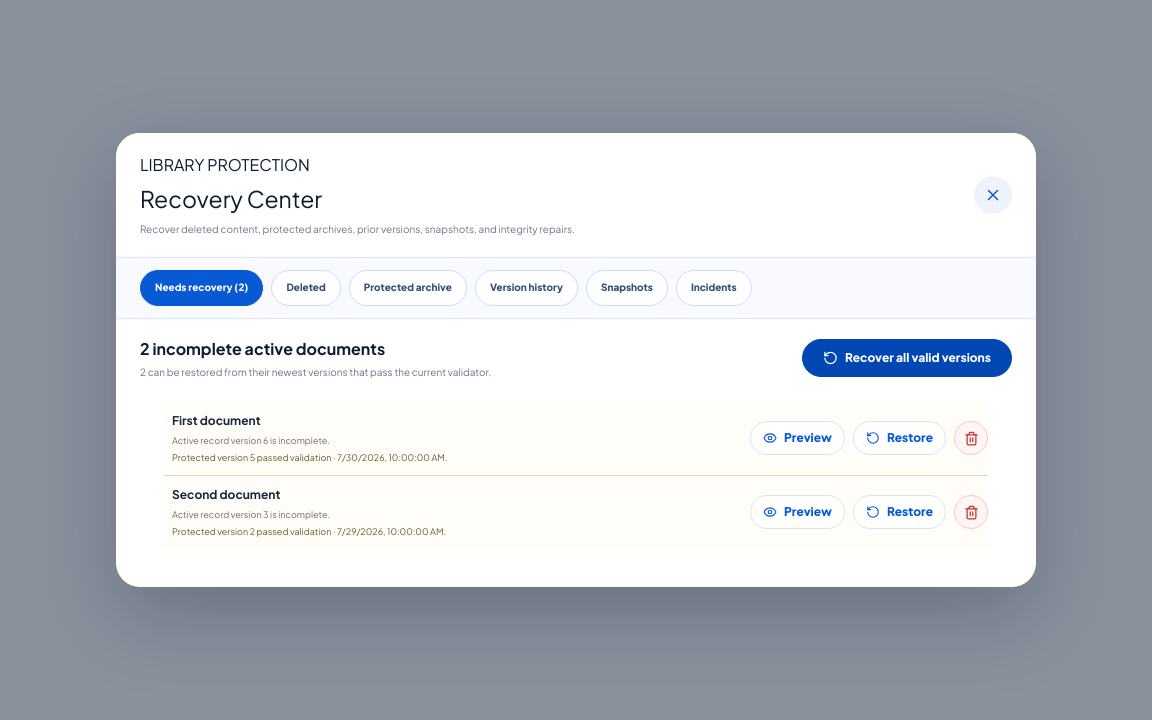
it: incomplete active document recovery › requires confirmation before requesting an all-or-nothing bulk recovery
What coordinates should you click on to do the following:
click the button "Recover all valid versions"
I would click on:
 (907, 358)
Its box is 802,339 -> 1012,377.
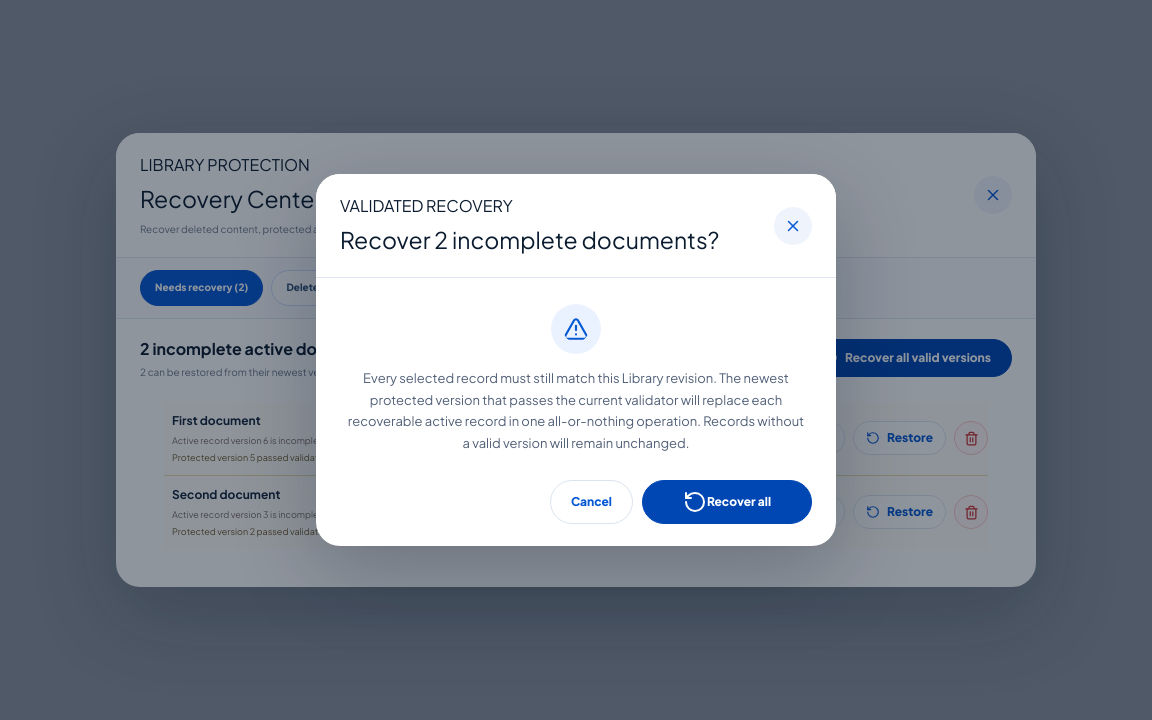
What coordinates should you click on to do the following:
click the button "Recover all"
I would click on:
 (727, 502)
Its box is 642,480 -> 812,524.
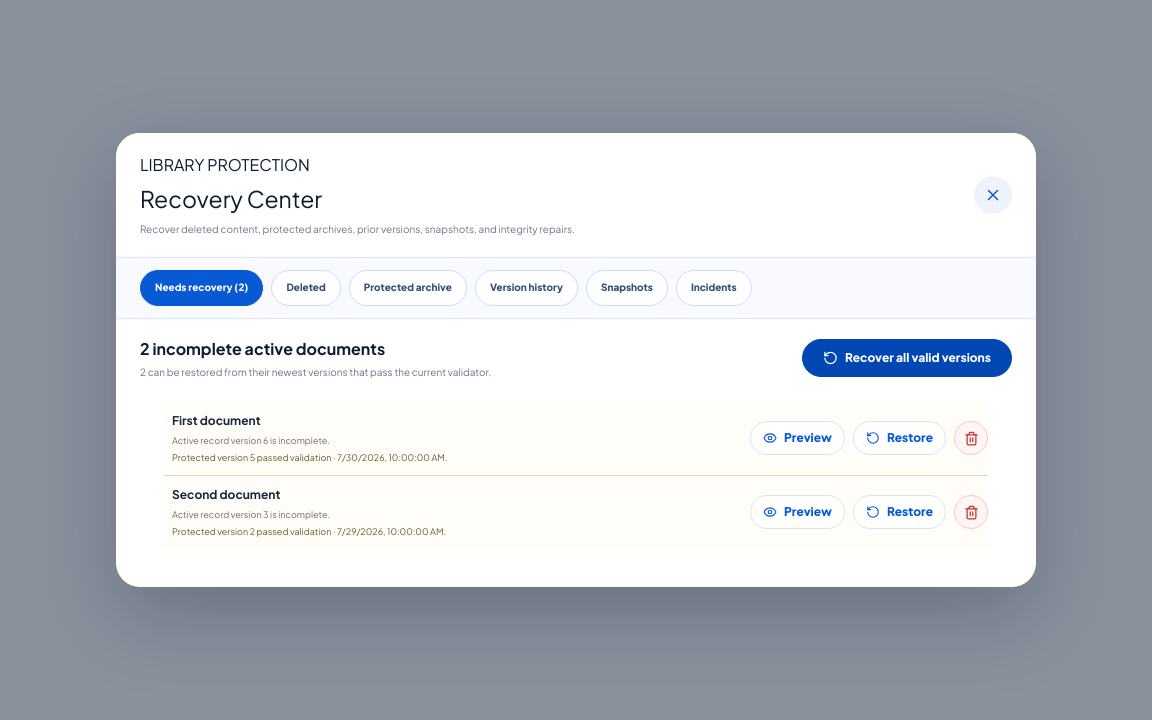
expect the heading "Recover 2 incomplete documents?" is gone: met
